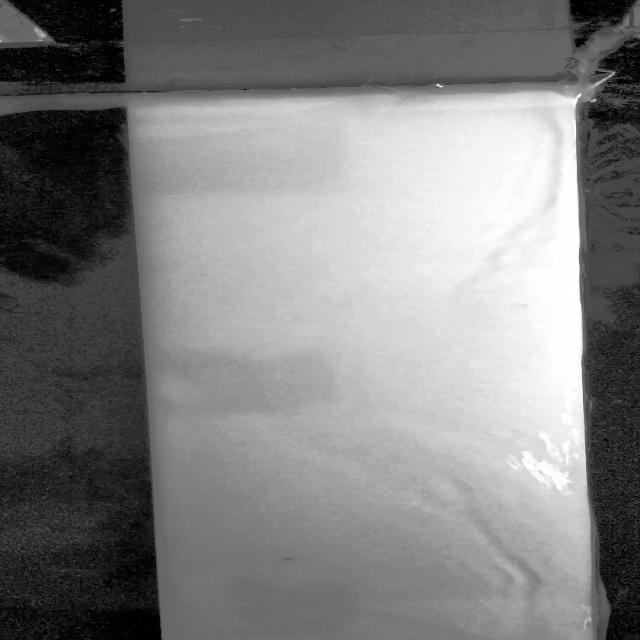shrimp: (273, 550, 308, 568)
